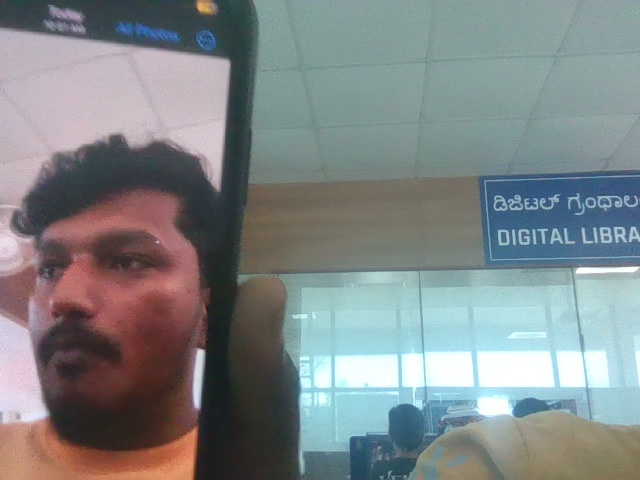fake: (0, 102, 237, 438)
